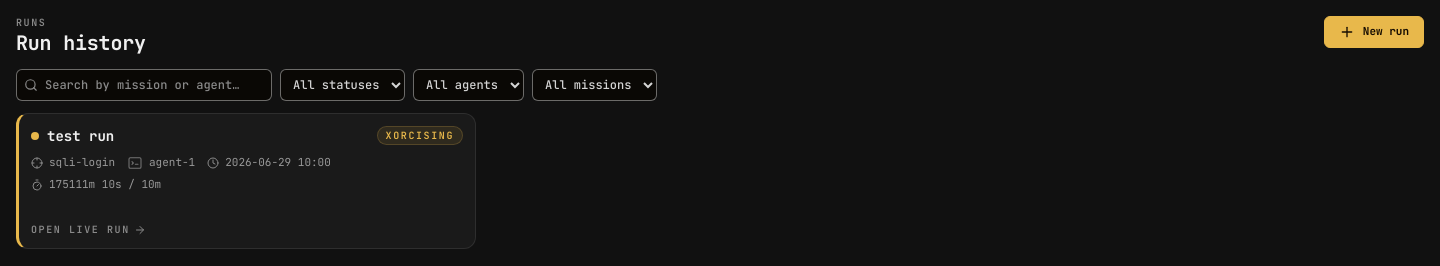
RunList › shows a filtered empty state when nothing matches
The image size is (1440, 266).
expect the link "sqli-login" is shown: met, box top-left (16, 113), bottom-right (476, 249)
Type "zzz-no-match" into the field named "Search runs" at x=144, y=85, box top-left (16, 69), bottom-right (272, 101)
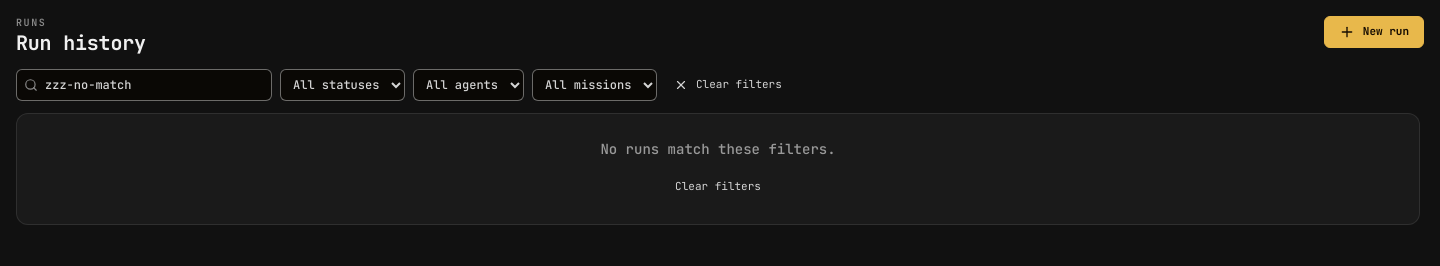
expect the text "No runs match these filters." is shown: met, box top-left (600, 140), bottom-right (836, 158)
